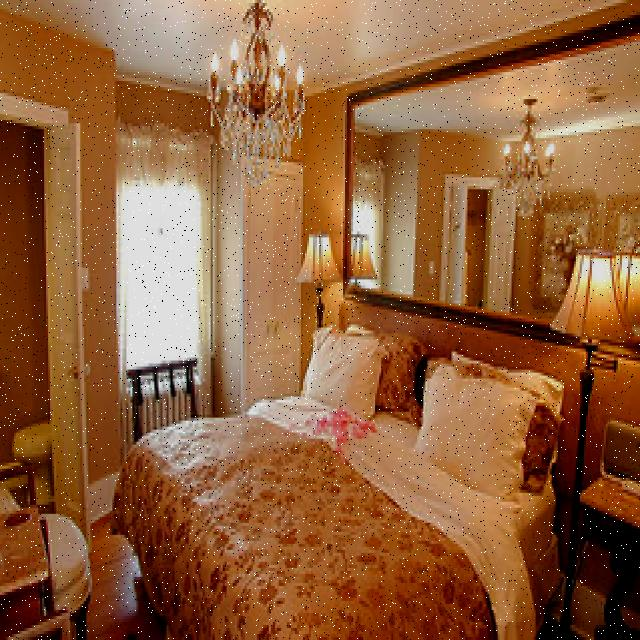bed: (128, 299, 594, 640)
